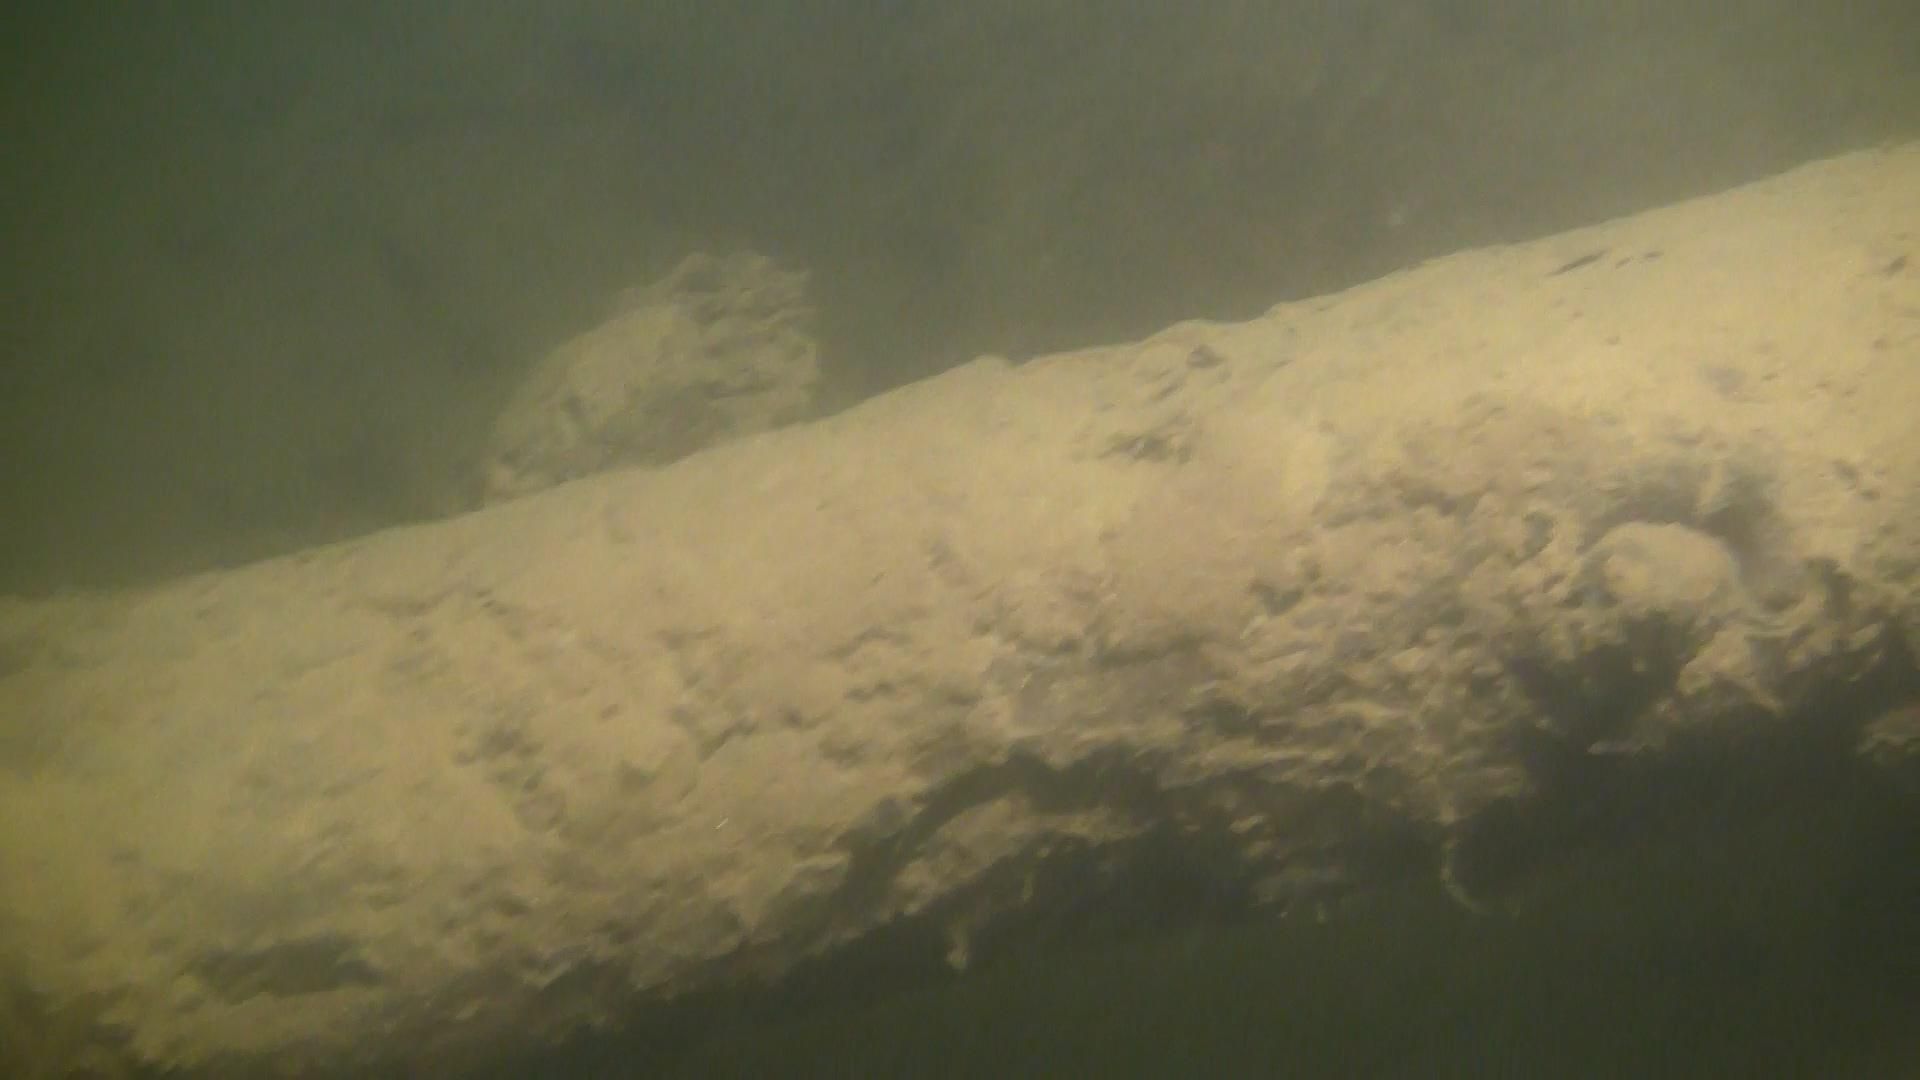wood: (0, 137, 1920, 1080)
